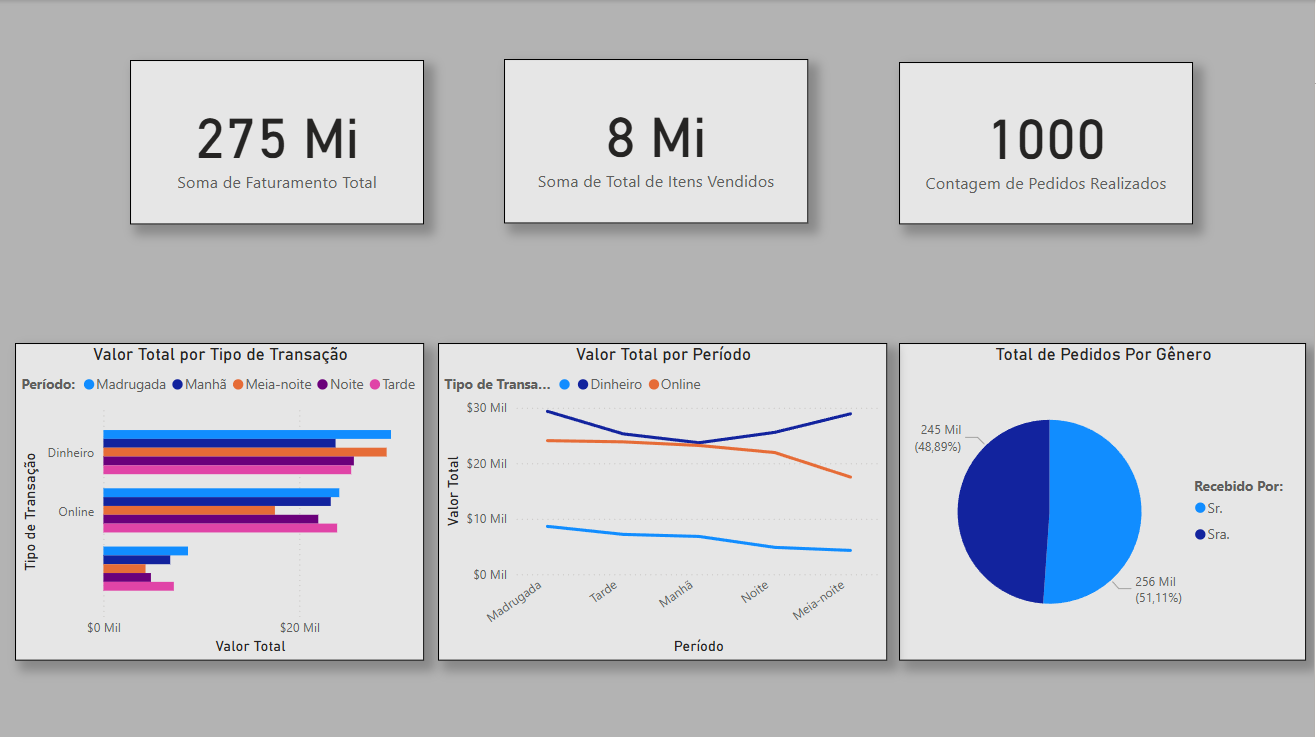

What the dashboard file says about the page in this screenshot:
{"tool":"powerbi","page":{"name":"Comparativos","canvas":[1280,720],"ordinal":2},"visuals":[{"type":"clusteredBarChart","title":"Valor Total por Tipo de Transação","fields":{"Category":["Balaji Fast Food Sales.Tipo_Transacao"],"Y":["Sum(Balaji Fast Food Sales.transaction_amount)"],"Series":["Balaji Fast Food Sales.Período Formatado"]},"box":[16.5,333.6,397.8,309.3],"z":0},{"type":"pieChart","title":"Total de Pedidos Por Gênero","fields":{"Category":["Balaji Fast Food Sales.Recebido_Por"],"Y":["Sum(Balaji Fast Food Sales.order_id)"]},"box":[876.4,333.6,395.9,309.3],"z":1000},{"type":"lineChart","title":"Valor Total por Período","fields":{"Category":["Balaji Fast Food Sales.Período Formatado"],"Y":["Sum(Balaji Fast Food Sales.transaction_amount)"],"Series":["Balaji Fast Food Sales.Tipo_Transacao"]},"box":[428,333.6,436.7,309.3],"z":2000},{"type":"card","fields":{"Values":["Sum(Balaji Fast Food Sales.Faturamento Total)"]},"box":[128.4,58.4,286,159.5],"z":3000},{"type":"card","fields":{"Values":["CountNonNull(Balaji Fast Food Sales.Pedidos Realizados)"]},"box":[876.4,60.3,286,157.6],"z":4000},{"type":"card","fields":{"Values":["Sum(Balaji Fast Food Sales.Total de Itens Vendidos)"]},"box":[492.2,57.4,295.7,160.5],"z":5000}]}

Visuals, with their boxes in screenshot pixels (x1, y1, x2, y2), scaled from the page's 1280x720 canvas onto the 1316x737 screenshot:
"Valor Total por Tipo de Transação" clusteredBarChart: (17,341,426,658)
"Total de Pedidos Por Gênero" pieChart: (901,341,1308,658)
"Valor Total por Período" lineChart: (440,341,889,658)
card - Sum(Balaji Fast Food Sales.Faturamento Total): (132,60,426,223)
card - CountNonNull(Balaji Fast Food Sales.Pedidos Realizados): (901,62,1195,223)
card - Sum(Balaji Fast Food Sales.Total de Itens Vendidos): (506,59,810,223)
